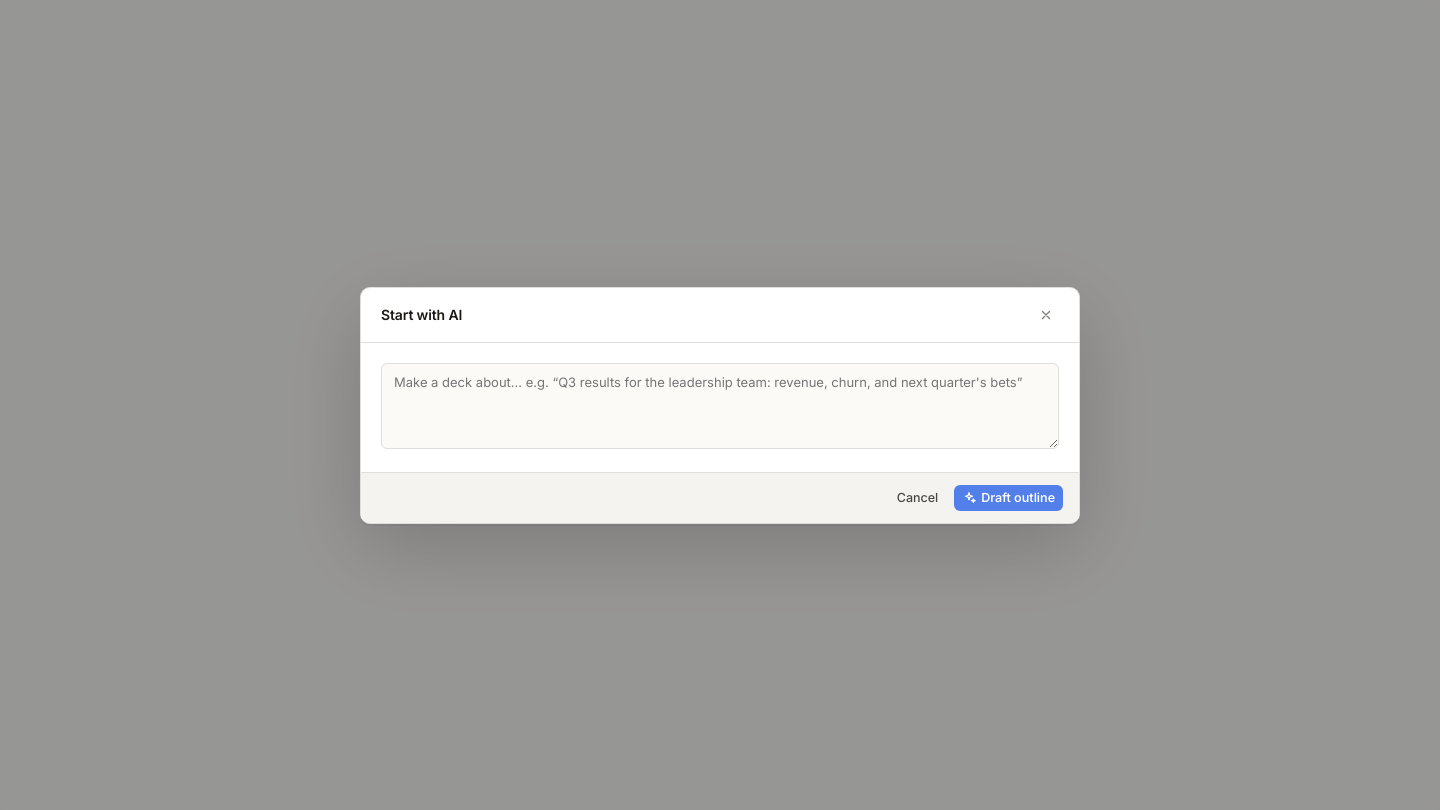
it: AiDeckModal › drafts an outline from the topic and shows it for review
Check: the button "Draft outline" is disabled, box [954,484,1063,510]
Replace the text in the text box named "Deck topic" with "our Q3 results" at coordinates (720, 406), box [381,362,1059,448]
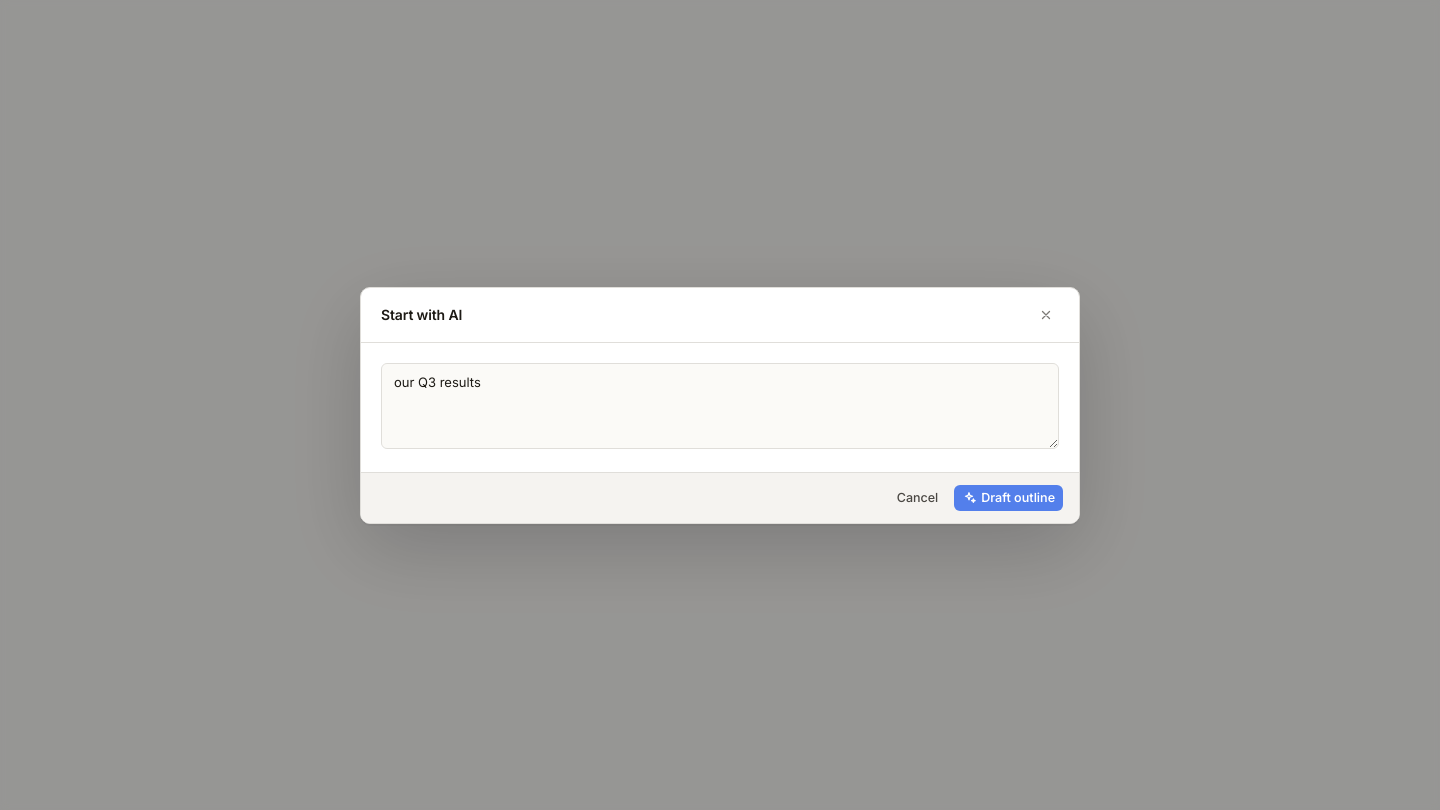
Click the button "Draft outline" at coordinates (1009, 498), box [954,484,1063,510]
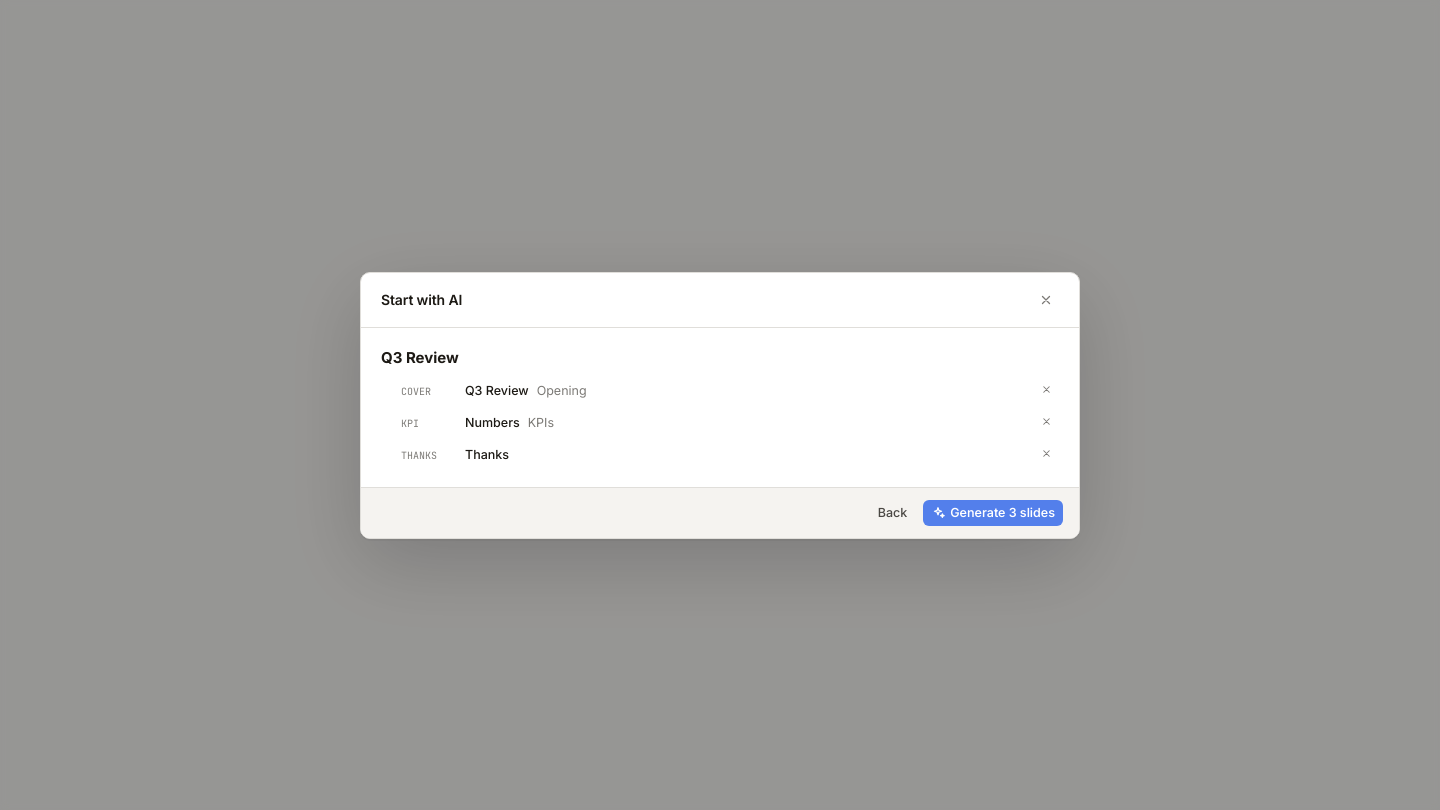
Check: the text "Numbers" is shown, box [465,415,520,430]
Check: the heading "Q3 Review" is shown, box [381,348,459,366]
